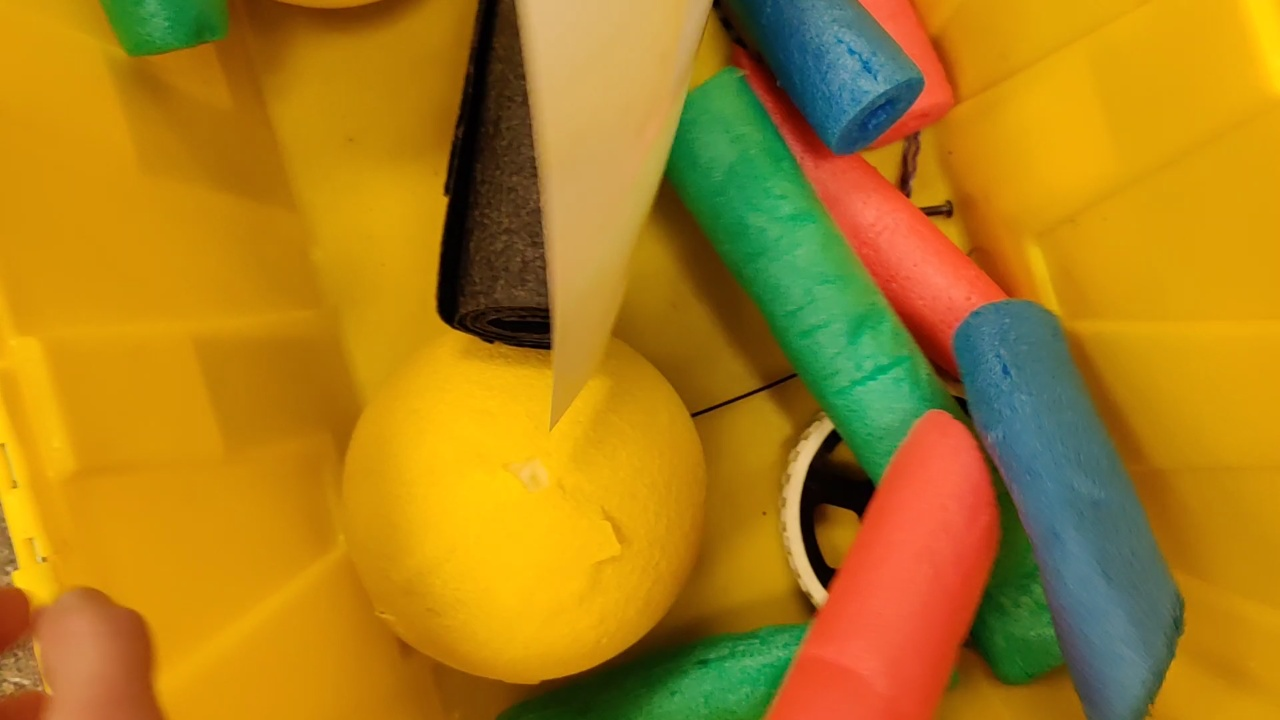Ball: (337, 321, 712, 684)
